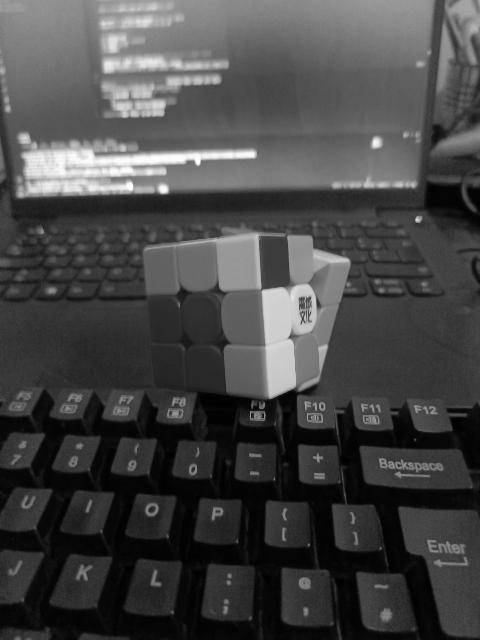rubik: (141, 229, 350, 399)
